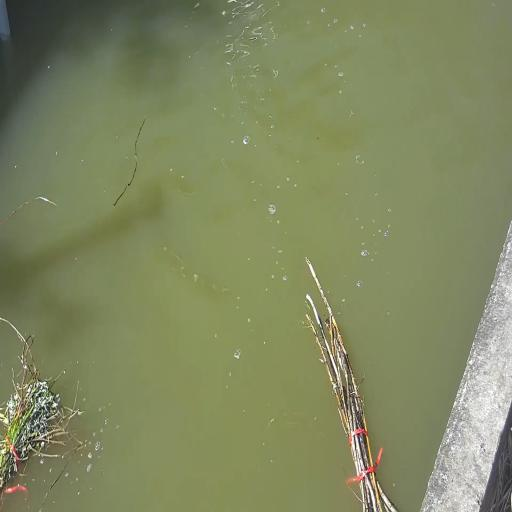twig: (290, 249, 404, 512), (0, 310, 86, 512)
